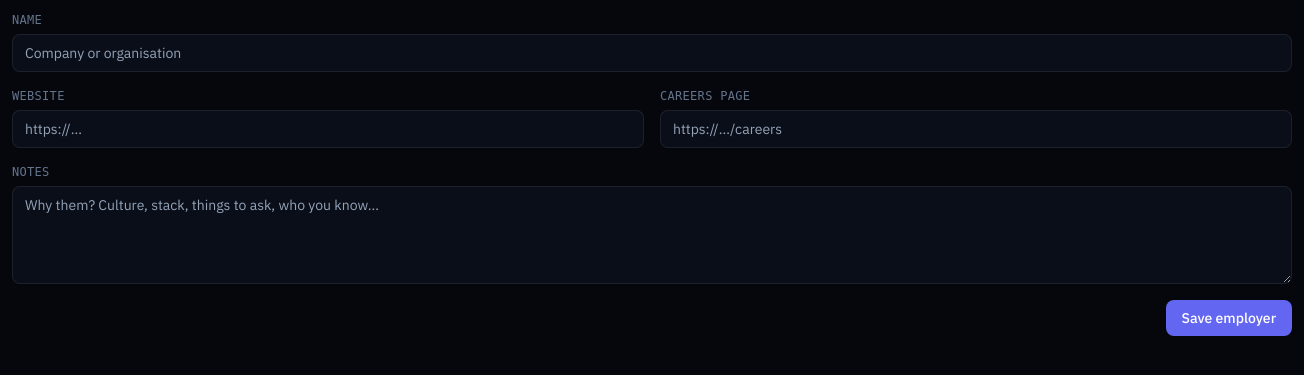
Test: EmployerForm › shows 'Open it' when the name is already taken (409)
In the field labelled "Name": (652, 53) left=12, top=34, right=1292, bottom=72, type "Acme"
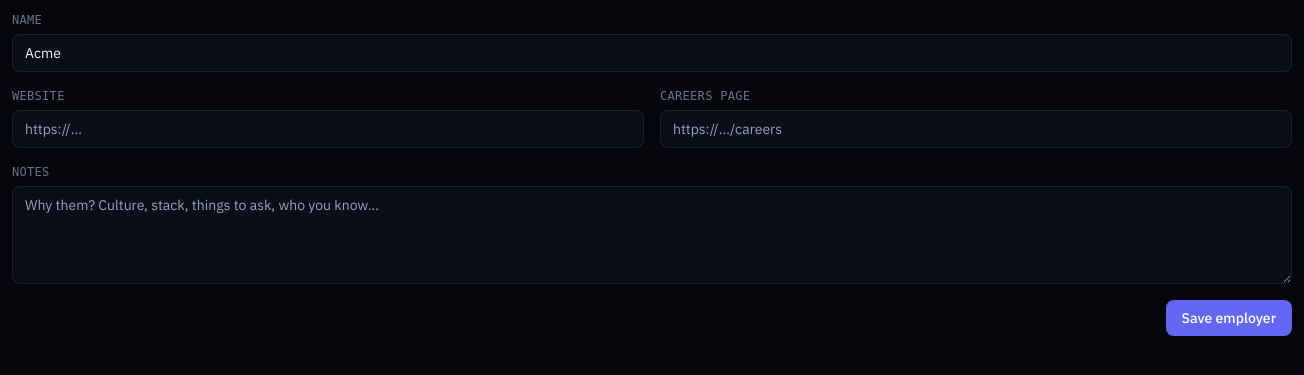
Click the button "Save employer": (1229, 318) left=1166, top=300, right=1292, bottom=336
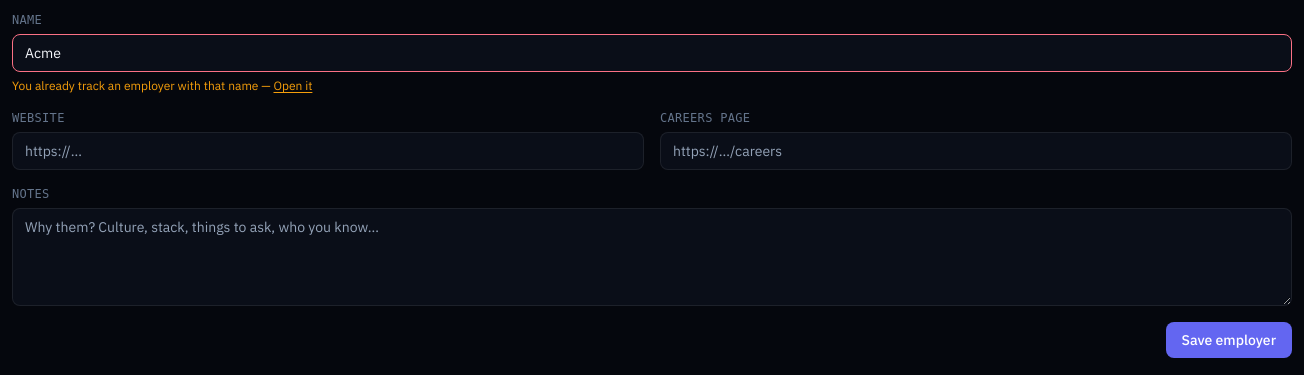
Expected: the text "You already track an employer with that name — Open it" is shown, left=12, top=78, right=312, bottom=93
